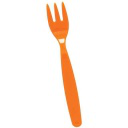Fork: (41, 1, 95, 125)
